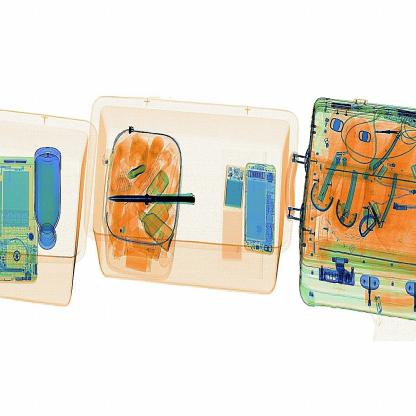gun: (101, 191, 201, 211)
